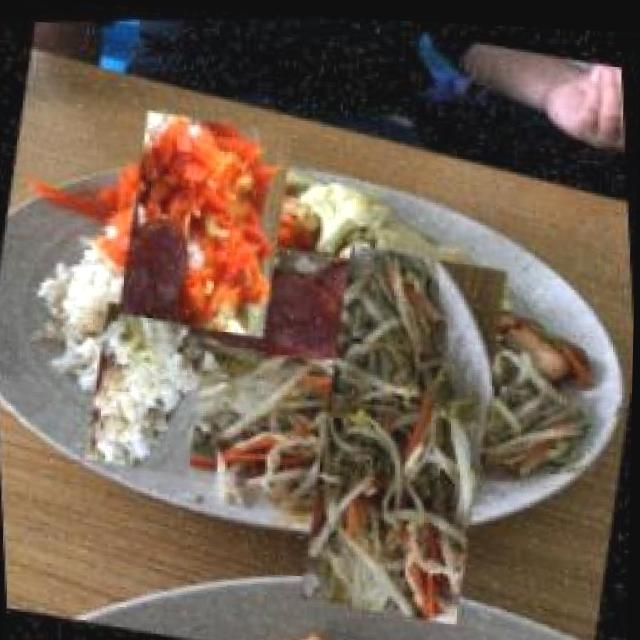carrot_eggs: (94, 107, 318, 336)
chinese_sausage: (123, 200, 440, 396)
mung_bean_sprouts: (240, 260, 569, 596)
rice: (65, 301, 233, 473)
